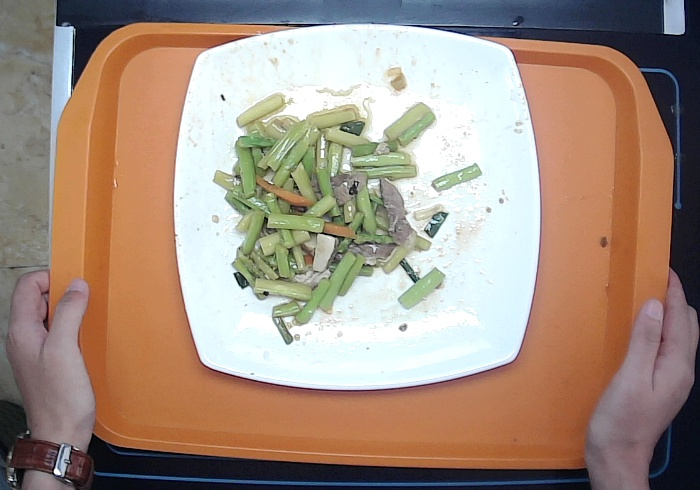ZNLD-Bai_Fang_Pan: (171, 21, 542, 392)
